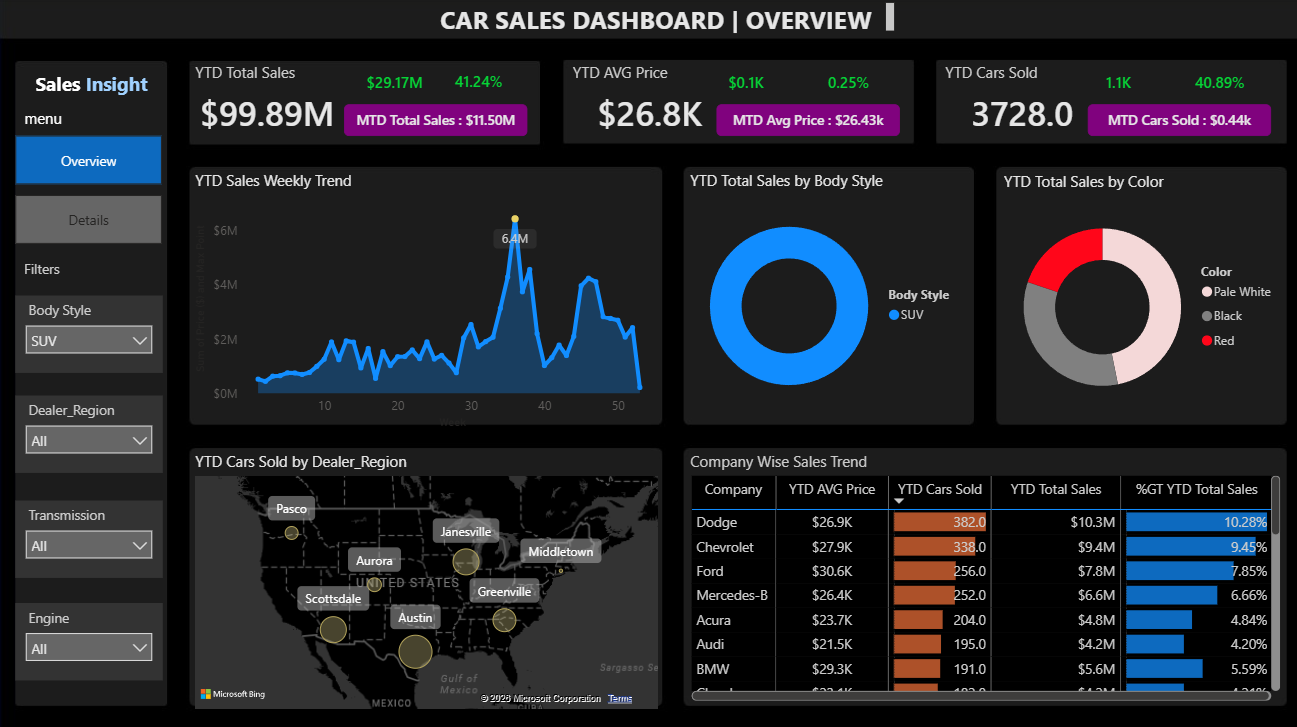

This screenshot's page, from the dashboard's own definition file:
{"tool":"powerbi","page":{"name":"Overview","canvas":[1280,720],"ordinal":0},"visuals":[{"type":"card","title":"YTD Total Sales","fields":{"Values":["car_data.YTD Total Sales"]},"box":[187.5,62.5,151.2,81.2],"z":0},{"type":"card","fields":{"Values":["car_data.Sales Difference"]},"box":[338.8,66.2,100,37.5],"z":1000},{"type":"card","fields":{"Values":["car_data.YOY Sales Growth"]},"box":[421.2,70,100,28.8],"z":2000},{"type":"card","fields":{"Values":["car_data.MTD KPI"]},"box":[338.8,103.8,180,31.2],"z":3000},{"type":"card","title":"YTD AVG Price","fields":{"Values":["car_data.YTD AVG Price"]},"box":[558.8,62.5,161.2,81.2],"z":4000},{"type":"card","fields":{"Values":["car_data.AVG Price Diff"]},"box":[683.8,66.2,100,37.5],"z":5000},{"type":"card","fields":{"Values":["car_data.YOY AVG Price Growth"]},"box":[783.8,66.2,100,37.5],"z":6000},{"type":"card","fields":{"Values":["car_data.MTD AVG Price KPI"]},"box":[703.8,103.8,180,31.2],"z":7000},{"type":"card","title":"YTD Cars Sold","fields":{"Values":["car_data.YTD Cars Sold"]},"box":[923.8,62.5,161.2,81.2],"z":8000},{"type":"card","fields":{"Values":["car_data.Cars Sold Diff"]},"box":[1048.8,66.2,100,37.5],"z":9000},{"type":"card","fields":{"Values":["car_data.YOY Cars Sold Growth"]},"box":[1148.8,66.2,100,37.5],"z":10000},{"type":"card","fields":{"Values":["car_data.MTD Cars Sold KPI"]},"box":[1068.8,103.8,180,31.2],"z":11000},{"type":"areaChart","title":"YTD Sales Weekly Trend","fields":{"Category":["Calendar tabel.Week"],"Y":["Sum(car_data.Price ($))","car_data.Max Point On Area Chart"]},"box":[187.5,167.5,463.8,260],"z":12000},{"type":"donutChart","fields":{"Category":["car_data.Body Style"],"Y":["car_data.YTD Total Sales"]},"box":[673.8,167.5,281.2,248.8],"z":13000},{"type":"donutChart","fields":{"Y":["car_data.YTD Total Sales"],"Category":["car_data.Color"]},"box":[981.2,168.8,281.2,248.8],"z":14000},{"type":"map","fields":{"Category":["car_data.Dealer_Region"],"Size":["car_data.YTD Cars Sold"]},"box":[187.7,444.2,463.8,258.9],"z":15000},{"type":"tableEx","title":"Company Wise Sales Trend","fields":{"Values":["car_data.Company","car_data.YTD AVG Price","car_data.YTD Cars Sold","car_data.YTD Total Sales","Divide(car_data.YTD Total Sales, ScopedEval(car_data.YTD Total Sales, []))"]},"box":[673.6,444.2,589,250.3],"z":16000},{"type":"textbox","box":[428.2,0,455.2,39.3],"z":17000},{"type":"slicer","fields":{"Values":["car_data.Body Style"]},"box":[16,292,144.8,76.1],"z":18000},{"type":"slicer","fields":{"Values":["car_data.Dealer_Region"]},"box":[16,390.2,144.8,76.1],"z":19000},{"type":"slicer","fields":{"Values":["car_data.Transmission"]},"box":[16,493.3,144.8,76.1],"z":20000},{"type":"slicer","fields":{"Values":["car_data.Engine"]},"box":[16,593.9,144.8,76.1],"z":21000},{"type":"textbox","box":[16,251.5,149.7,29.4],"z":22000},{"type":"textbox","box":[16,66.3,149.7,38],"z":23000},{"type":"textbox","box":[16,103.1,51.5,33.1],"z":24000},{"type":"pageNavigator","box":[16,135,144.8,108],"z":25000}]}

Visuals, with their boxes on the page's 1280x720 design canvas (x1, y1, x2, y2). These are canvas units, not pixel positions in the 1297x727 screenshot, which may show the page scaled, cropped or inside an application window:
"YTD Total Sales" card: box(188, 62, 339, 144)
card - car_data.Sales Difference: box(339, 66, 439, 104)
card - car_data.YOY Sales Growth: box(421, 70, 521, 99)
card - car_data.MTD KPI: box(339, 104, 519, 135)
"YTD AVG Price" card: box(559, 62, 720, 144)
card - car_data.AVG Price Diff: box(684, 66, 784, 104)
card - car_data.YOY AVG Price Growth: box(784, 66, 884, 104)
card - car_data.MTD AVG Price KPI: box(704, 104, 884, 135)
"YTD Cars Sold" card: box(924, 62, 1085, 144)
card - car_data.Cars Sold Diff: box(1049, 66, 1149, 104)
card - car_data.YOY Cars Sold Growth: box(1149, 66, 1249, 104)
card - car_data.MTD Cars Sold KPI: box(1069, 104, 1249, 135)
"YTD Sales Weekly Trend" areaChart: box(188, 168, 651, 428)
donutChart - car_data.Body Style x car_data.YTD Total Sales: box(674, 168, 955, 416)
donutChart - car_data.YTD Total Sales x car_data.Color: box(981, 169, 1262, 418)
map - car_data.Dealer_Region x car_data.YTD Cars Sold: box(188, 444, 652, 703)
"Company Wise Sales Trend" tableEx: box(674, 444, 1263, 694)
textbox: box(428, 0, 883, 39)
slicer - car_data.Body Style: box(16, 292, 161, 368)
slicer - car_data.Dealer_Region: box(16, 390, 161, 466)
slicer - car_data.Transmission: box(16, 493, 161, 569)
slicer - car_data.Engine: box(16, 594, 161, 670)
textbox: box(16, 252, 166, 281)
textbox: box(16, 66, 166, 104)
textbox: box(16, 103, 68, 136)
pageNavigator: box(16, 135, 161, 243)
